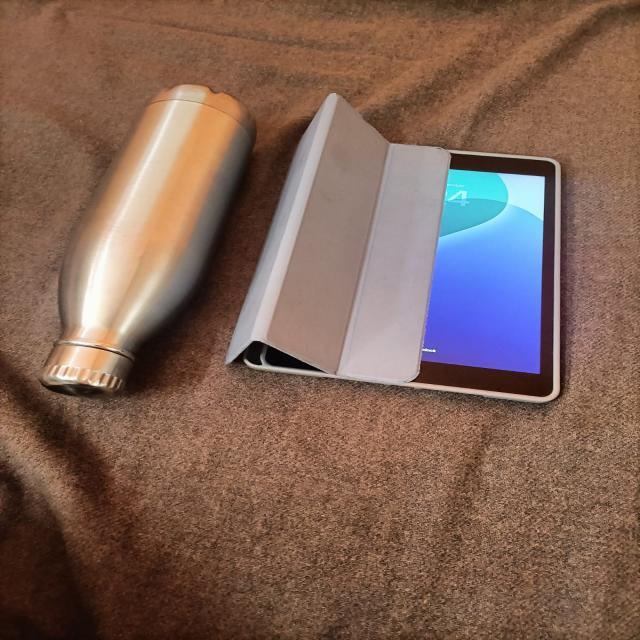bottle: (30, 66, 260, 421)
tablet: (221, 83, 601, 415)
